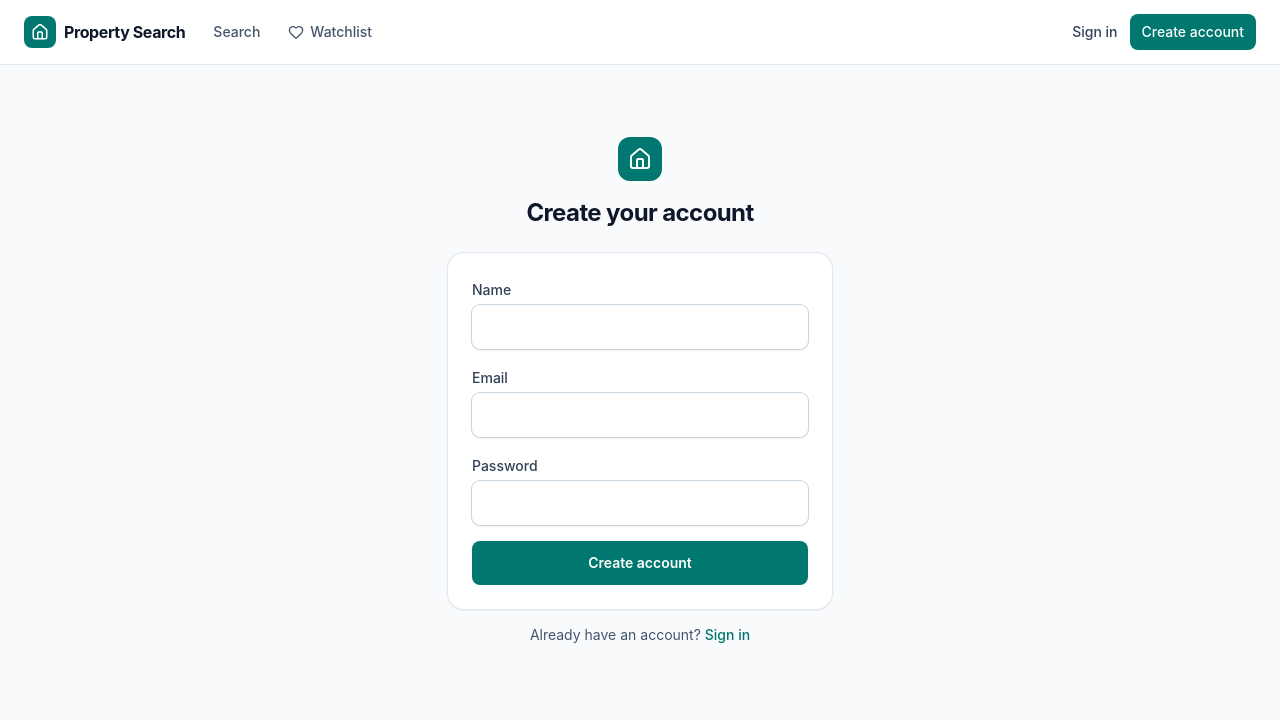
Sign up › shows field errors returned by the API
Type "Jane" into the field labelled "Name".
click(640, 327); type("Jane")  # box left=472, top=305, right=808, bottom=349
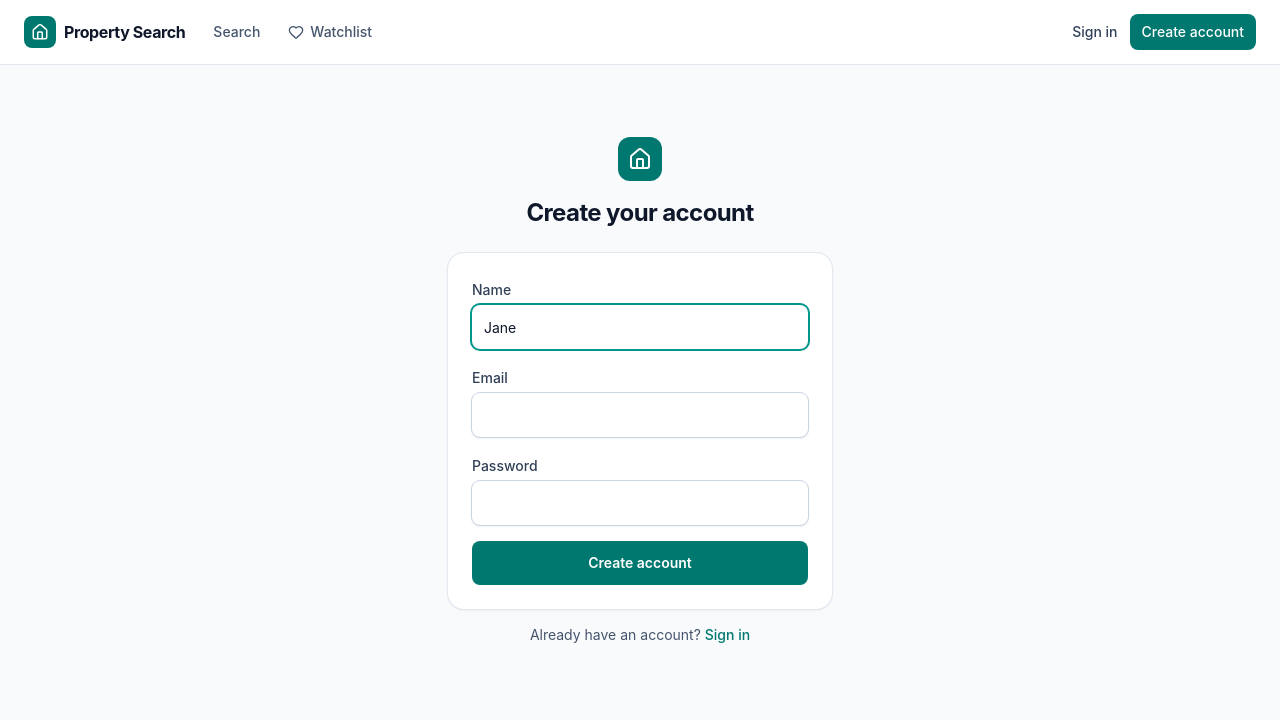
Type "taken@example.com" into the field labelled "Email".
click(640, 415); type("taken@example.com")  # box left=472, top=393, right=808, bottom=437
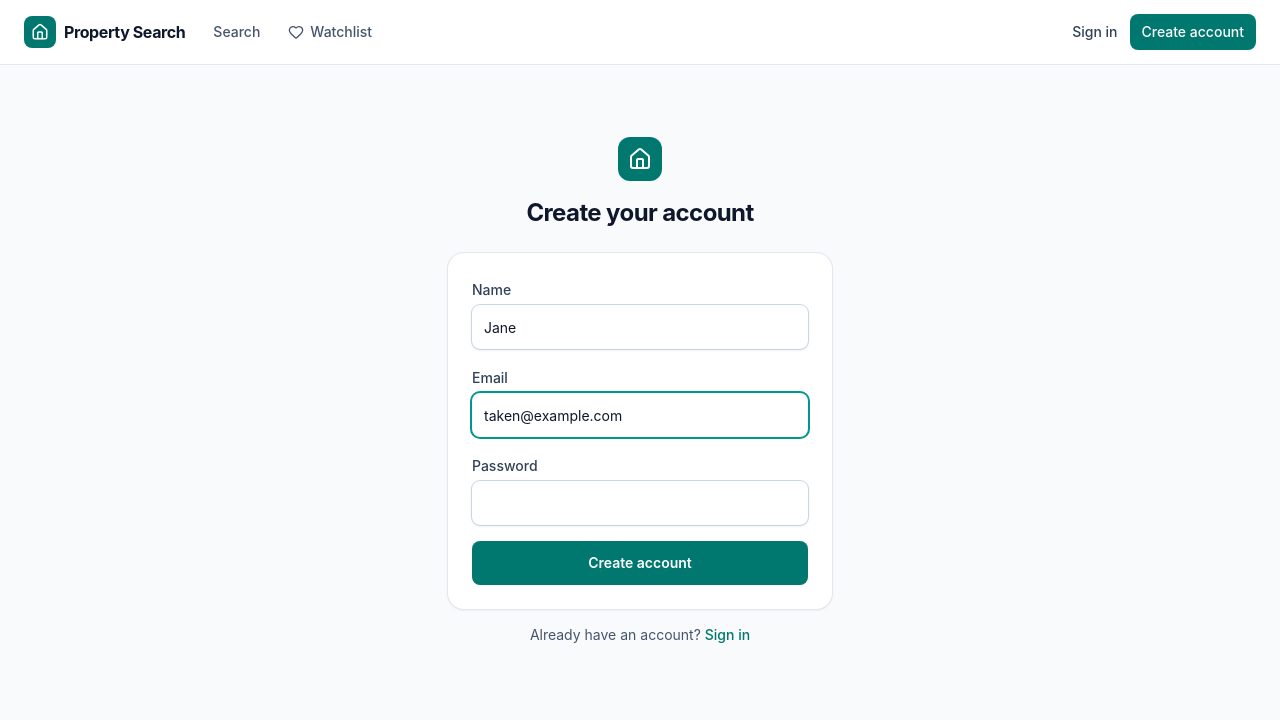
Type "password123" into the password field labelled "Password".
click(640, 503); type("password123")  # box left=472, top=481, right=808, bottom=525
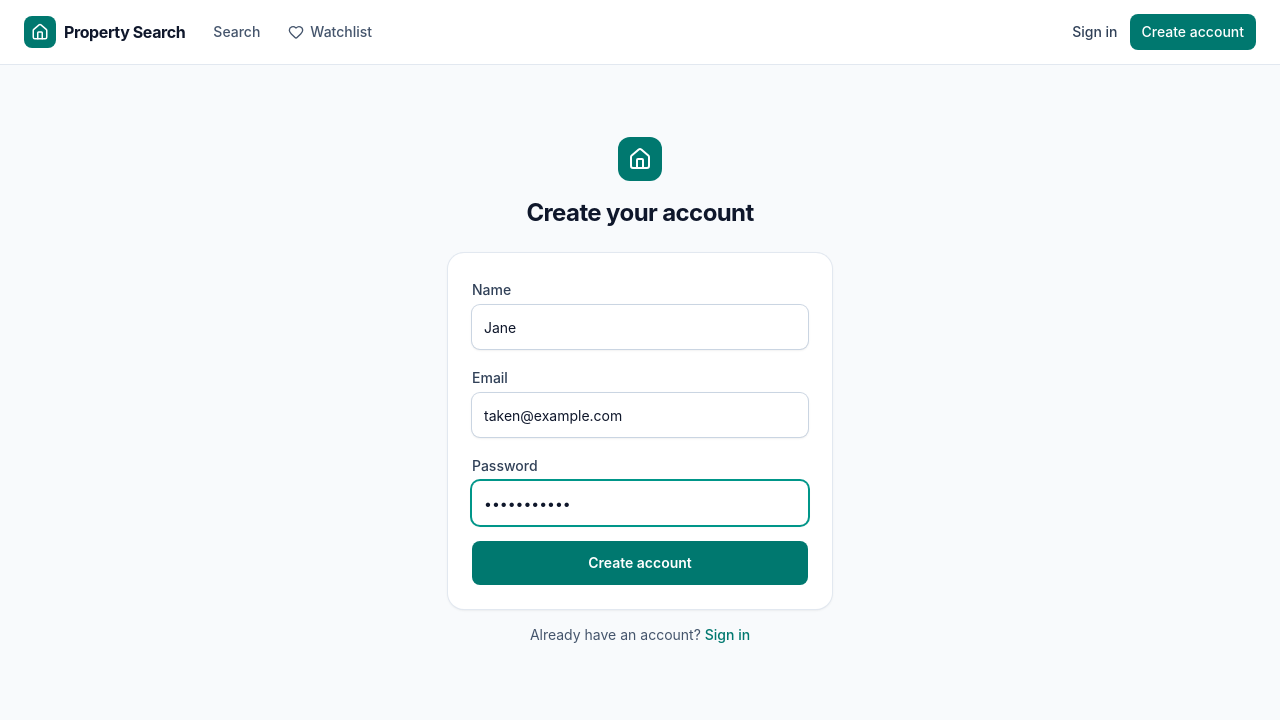
Click the button "Create account".
click(640, 563)  # box left=472, top=541, right=808, bottom=585
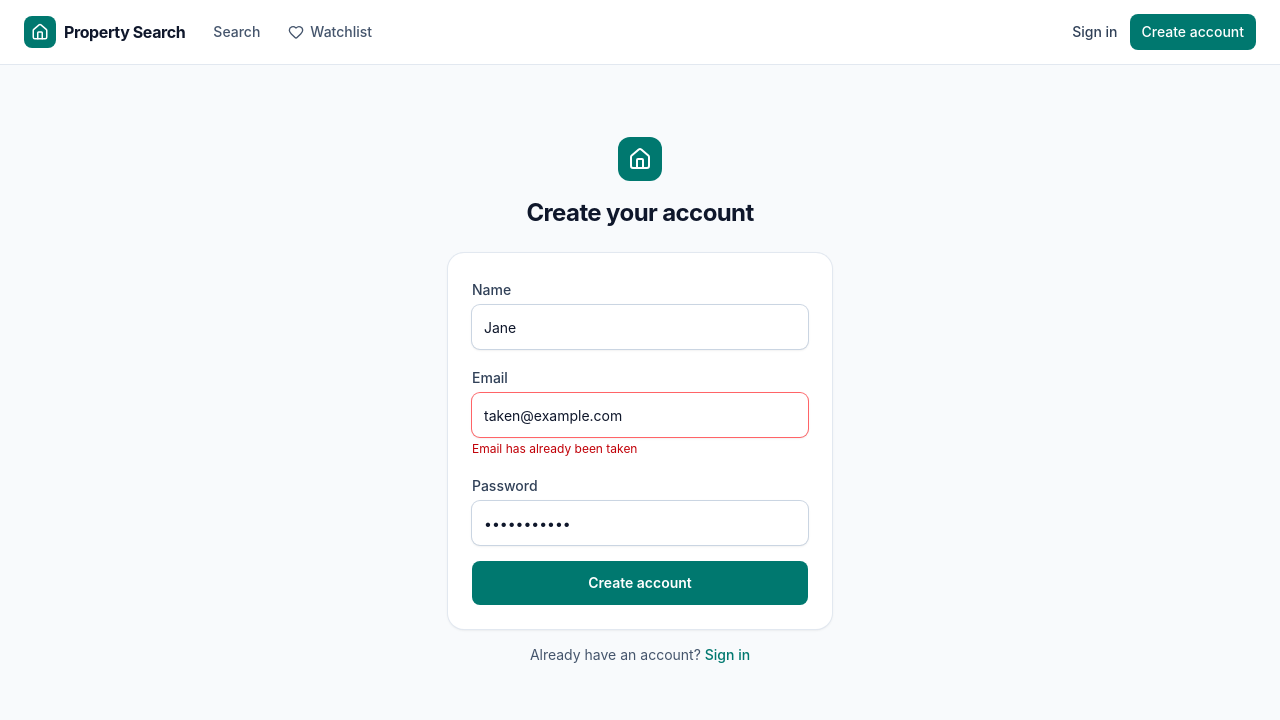
Expected: the text "Email has already been taken" is shown, left=472, top=441, right=638, bottom=456
